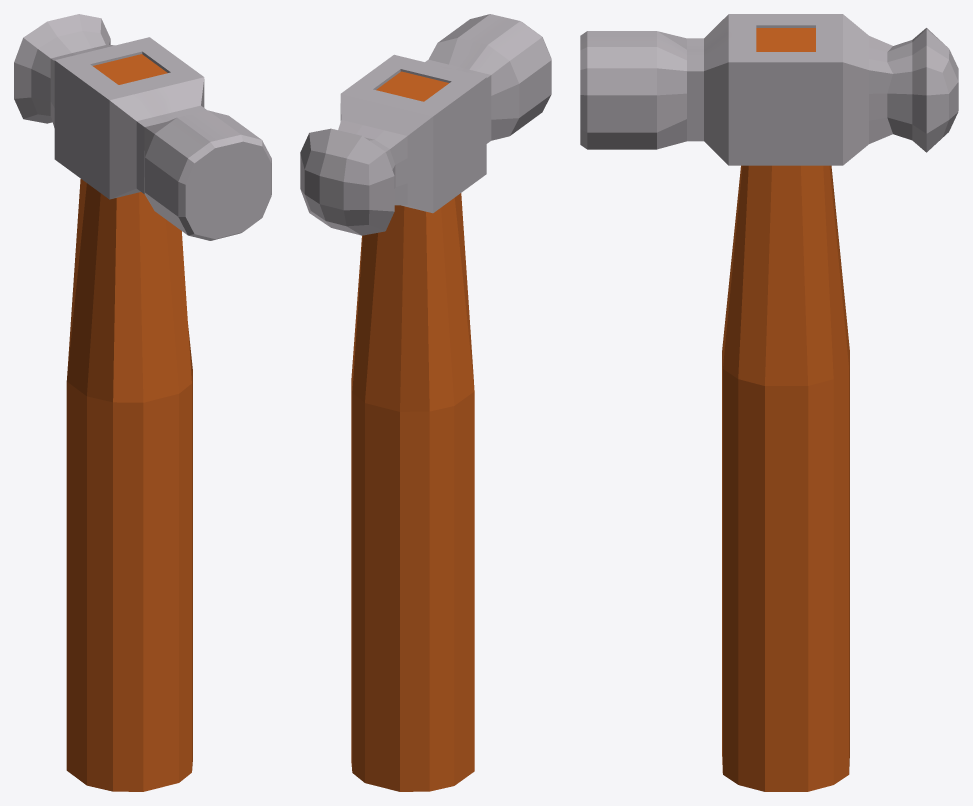
File: hammer.glb
3 views of the same model, side by side, from view 1: azimuth 30°, elevation 25°; view 2: azimuth 150°, elevation 25°; view 3: azimuth 270°, elevation 25° (orthographic). The views are drawn at different scales.
Visible parts, largest first — view 1: Handle, Head; view 2: Handle, Head; view 3: Handle, Head.
Part boxes in pixels (bbox=[...]): Handle: bbox=[66, 54, 192, 791]; Head: bbox=[14, 14, 271, 240]; Handle: bbox=[351, 71, 474, 791]; Head: bbox=[300, 14, 551, 235]; Handle: bbox=[722, 28, 849, 791]; Head: bbox=[580, 14, 958, 165].
Size of the model in its own units: 2.23 by 14.07 by 6.63.
2 materials, 2 textured.
